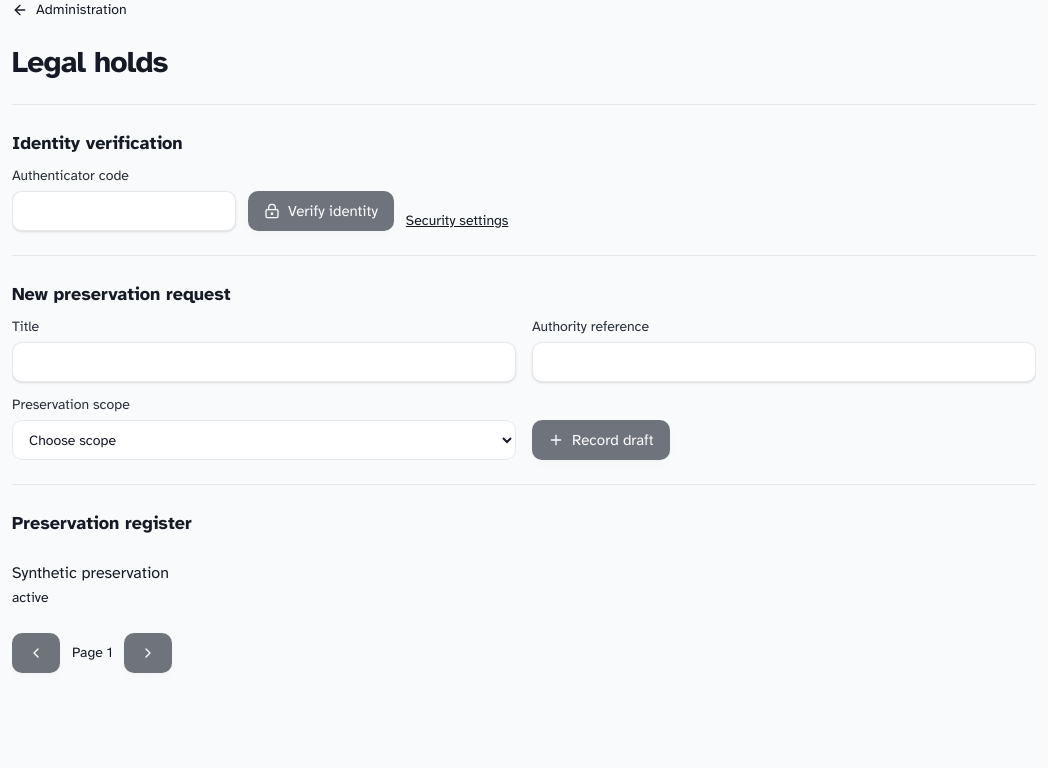
Test case: Legal hold commands › retains the release proposal and reports its actual outcome: true
Click the button with aria-label "Synthetic preservation: active" at (90, 573), box [12,561,1036,609]
(page scrolled)
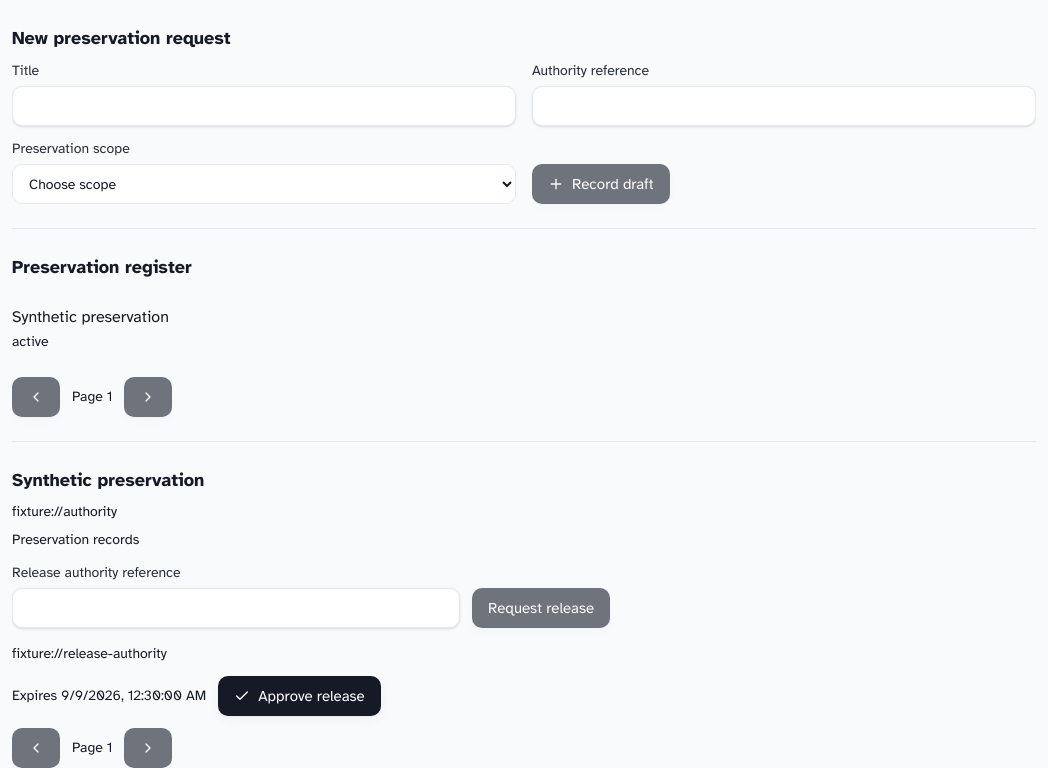
Expected: the text "fixture://release-authority" is shown, [12,645,167,662]
Click the button "Approve release" at (299, 696), box [218,676,381,716]
(page scrolled)
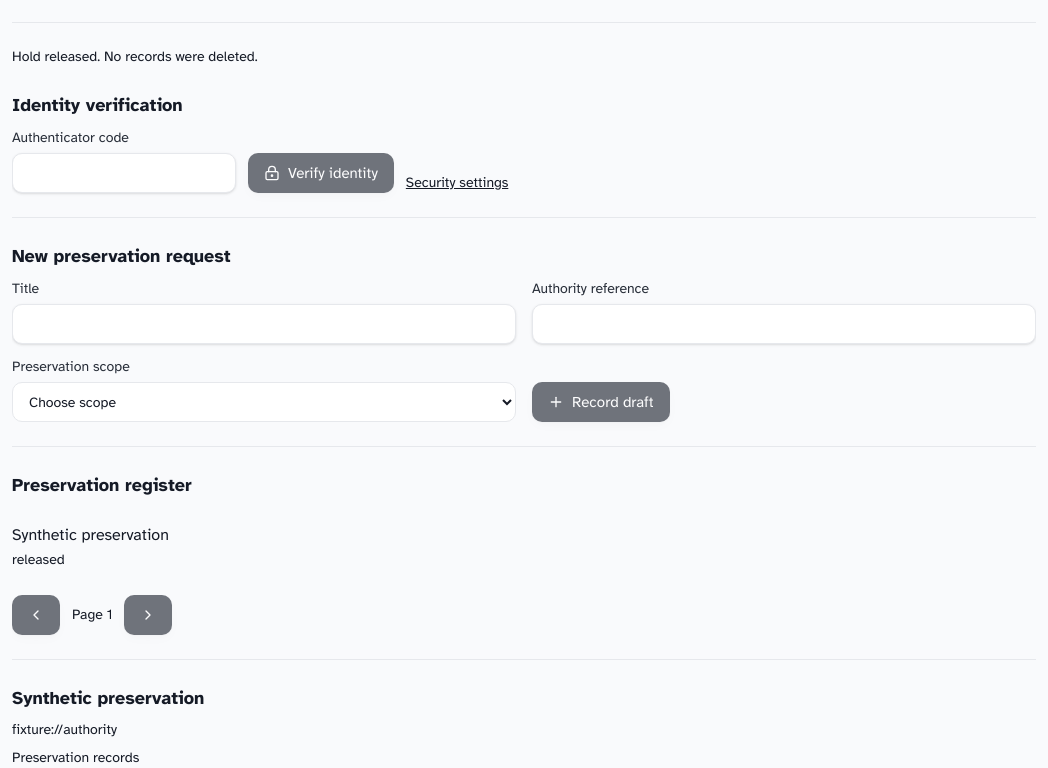
Expected: the text "Hold released. No records were deleted." is shown, [12,48,258,65]
Expected: the button with aria-label "Synthetic preservation: released" is shown, [12,523,1036,571]
